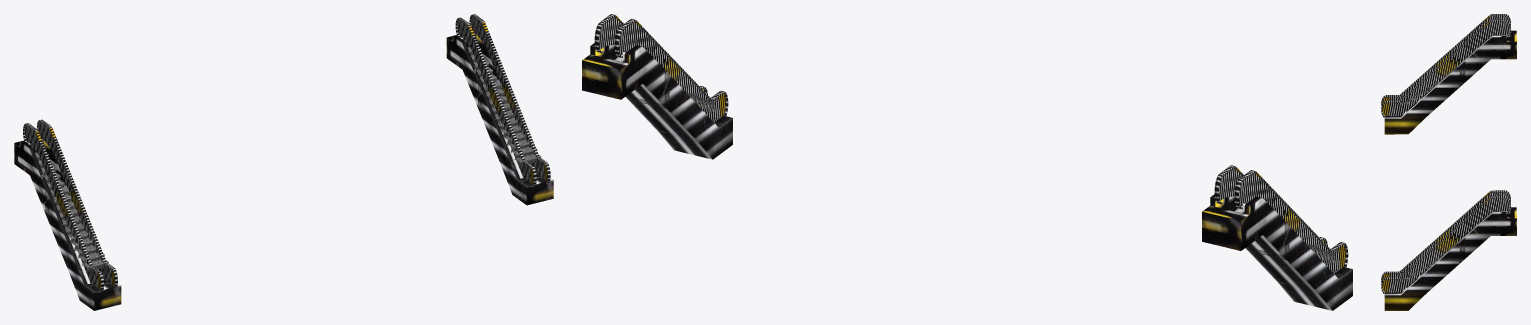
Rendered from Escaleras.obj.
The picture shows the model from 3 angles, left to right: view 1: azimuth 30°, elevation 25°; view 2: azimuth 150°, elevation 25°; view 3: azimuth 270°, elevation 25°; orthographic projection. The views are drawn at different scales.
Visible parts, largest first — view 1: Escalator, Escalator001; view 2: Escalator, Escalator001; view 3: Escalator001, Escalator.
Part boxes in pixels (box(x1,y1,x2,y2)): Escalator: box(446, 14, 553, 205); Escalator001: box(14, 119, 121, 310); Escalator: box(582, 14, 732, 159); Escalator001: box(1202, 165, 1352, 310); Escalator001: box(1381, 14, 1516, 134); Escalator: box(1381, 190, 1516, 310).
Size of the model in its own units: 162 by 44.82 by 49.55.
1 material, 1 textured.
